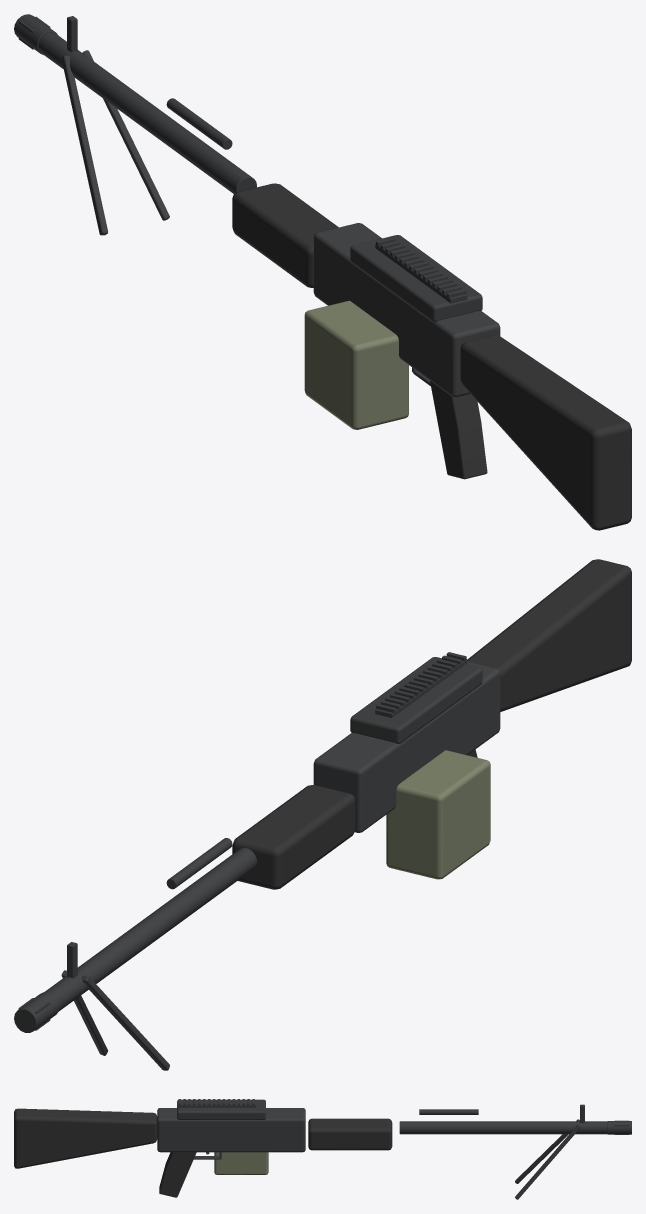
3 views of the same model, one above another, from view 1: azimuth 30°, elevation 25°; view 2: azimuth 150°, elevation 25°; view 3: azimuth 270°, elevation 25° (orthographic). The views are drawn at different scales.
Visible parts, largest first — view 1: Stock, AmmoBox, Receiver, Barrel, Handguard, FeedCover, Grip, BipodL, TopRail_teeth, BipodR, CarryHandleB, FlashHider; view 2: Stock, Receiver, AmmoBox, Handguard, Barrel, FeedCover, TopRail_teeth, BipodL, FlashHider, CarryHandleB; view 3: Stock, Receiver, Barrel, Handguard, FeedCover, AmmoBox, Grip, BipodR, TopRail, CarryHandleB, BipodL, TopRail_teeth (+1 smaller).
Boxes of the visible parts, x1=… form: Stock: x1=460, y1=335, x2=631, y2=530; AmmoBox: x1=304, y1=300, x2=408, y2=429; Receiver: x1=313, y1=223, x2=500, y2=397; Barrel: x1=38, y1=32, x2=256, y2=193; Handguard: x1=232, y1=183, x2=338, y2=287; FeedCover: x1=350, y1=235, x2=482, y2=321; Grip: x1=430, y1=380, x2=487, y2=479; BipodL: x1=61, y1=55, x2=107, y2=235; TopRail_teeth: x1=376, y1=237, x2=466, y2=297; BipodR: x1=82, y1=50, x2=169, y2=220; CarryHandleB: x1=166, y1=98, x2=232, y2=149; FlashHider: x1=14, y1=14, x2=57, y2=54; Stock: x1=467, y1=559, x2=631, y2=711; Receiver: x1=313, y1=661, x2=500, y2=832; AmmoBox: x1=386, y1=750, x2=490, y2=879; Handguard: x1=232, y1=785, x2=355, y2=889; Barrel: x1=45, y1=848, x2=256, y2=1010; FeedCover: x1=350, y1=657, x2=482, y2=743; TopRail_teeth: x1=376, y1=652, x2=466, y2=712; BipodL: x1=82, y1=975, x2=169, y2=1070; FlashHider: x1=14, y1=992, x2=59, y2=1032; CarryHandleB: x1=166, y1=838, x2=232, y2=889; Stock: x1=14, y1=1108, x2=157, y2=1168; Receiver: x1=157, y1=1108, x2=305, y2=1152; Barrel: x1=399, y1=1121, x2=607, y2=1134; Handguard: x1=308, y1=1118, x2=392, y2=1150; FeedCover: x1=177, y1=1099, x2=265, y2=1119; AmmoBox: x1=214, y1=1152, x2=268, y2=1174; Grip: x1=159, y1=1152, x2=196, y2=1197; BipodR: x1=515, y1=1124, x2=580, y2=1199; TopRail: x1=177, y1=1101, x2=256, y2=1107; CarryHandleB: x1=419, y1=1109, x2=478, y2=1114; BipodL: x1=515, y1=1119, x2=579, y2=1183; TopRail_teeth: x1=178, y1=1099, x2=254, y2=1105.
Bounding box in the file's own units: 0.1272 × 0.2091 × 1.25.
